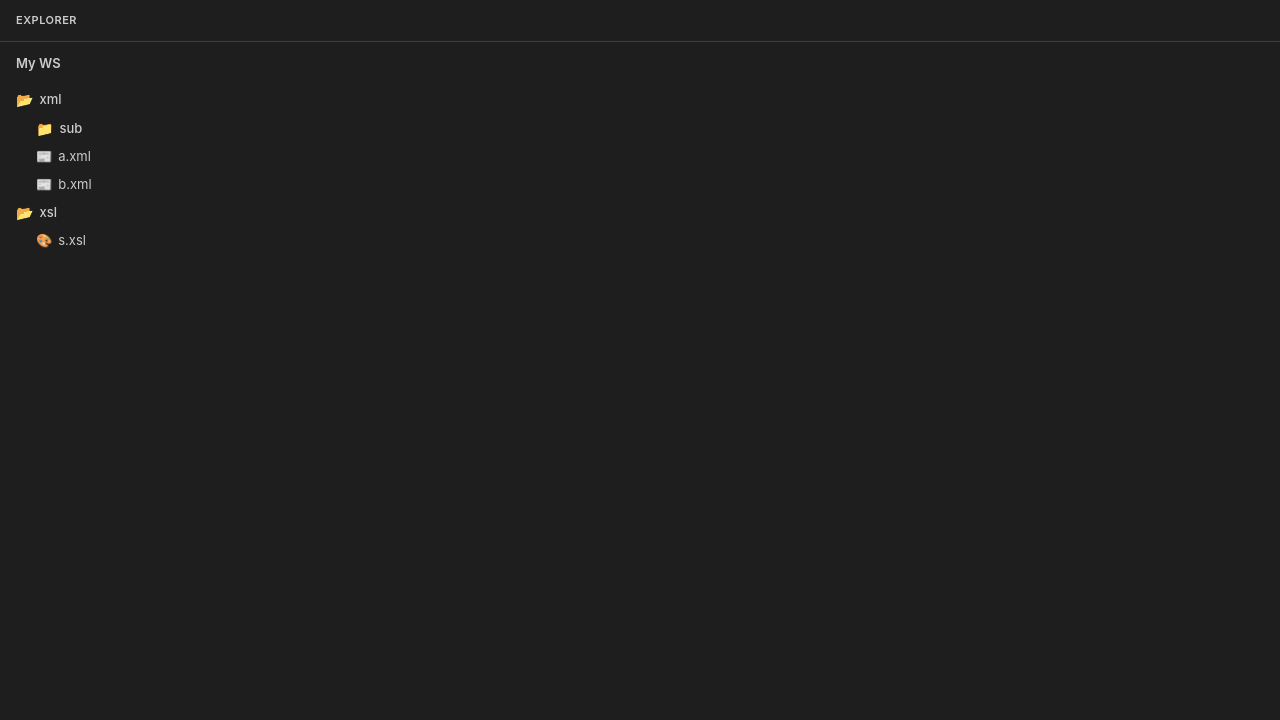
Test: FileExplorer › delete › does nothing when cancelled
Right-click the text "a.xml" at (63, 156), box [36,148,91,164]
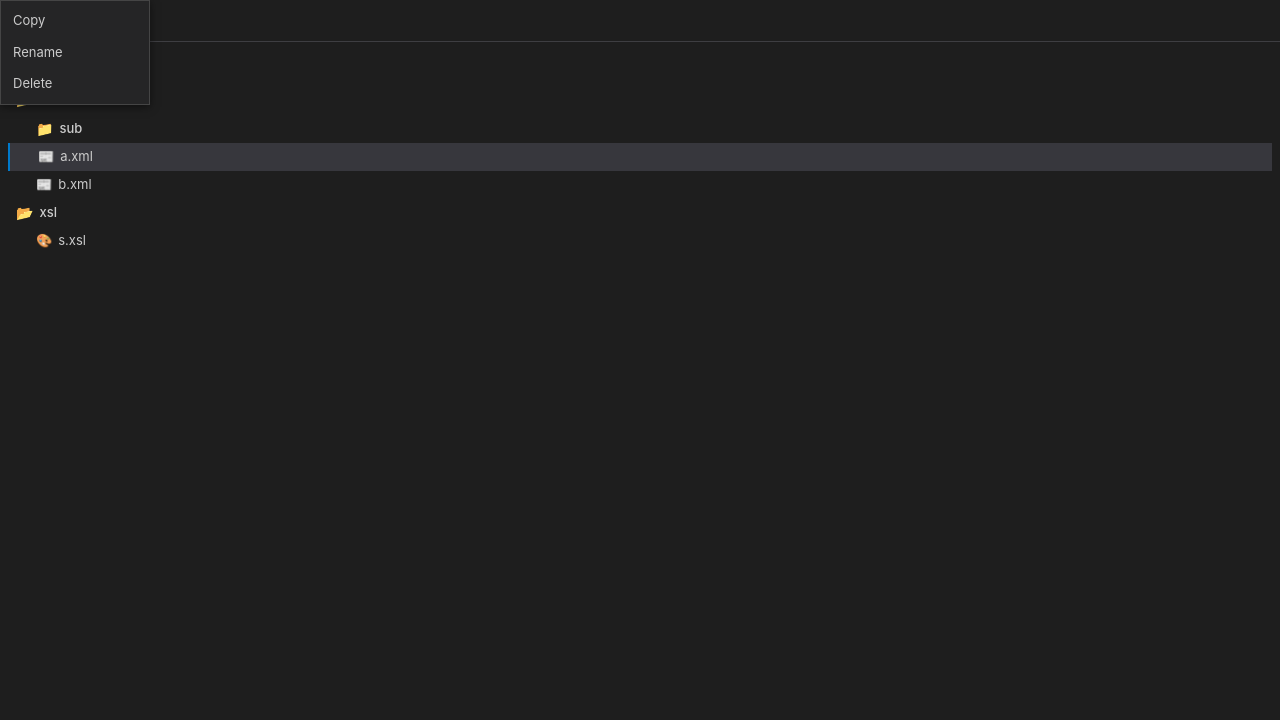
Click the text "Delete". click: (33, 83)
box: [13,75,52,91]
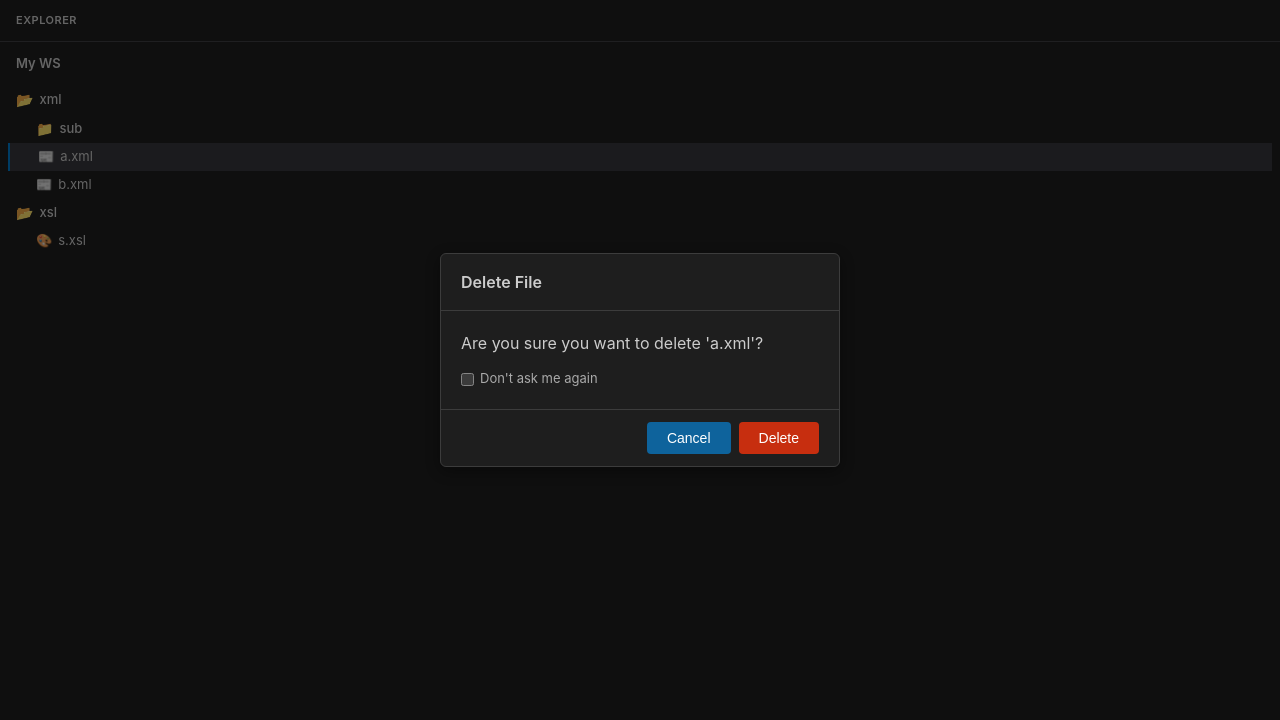
Click the button "Cancel". click: (689, 438)
box: [647,422,730,454]
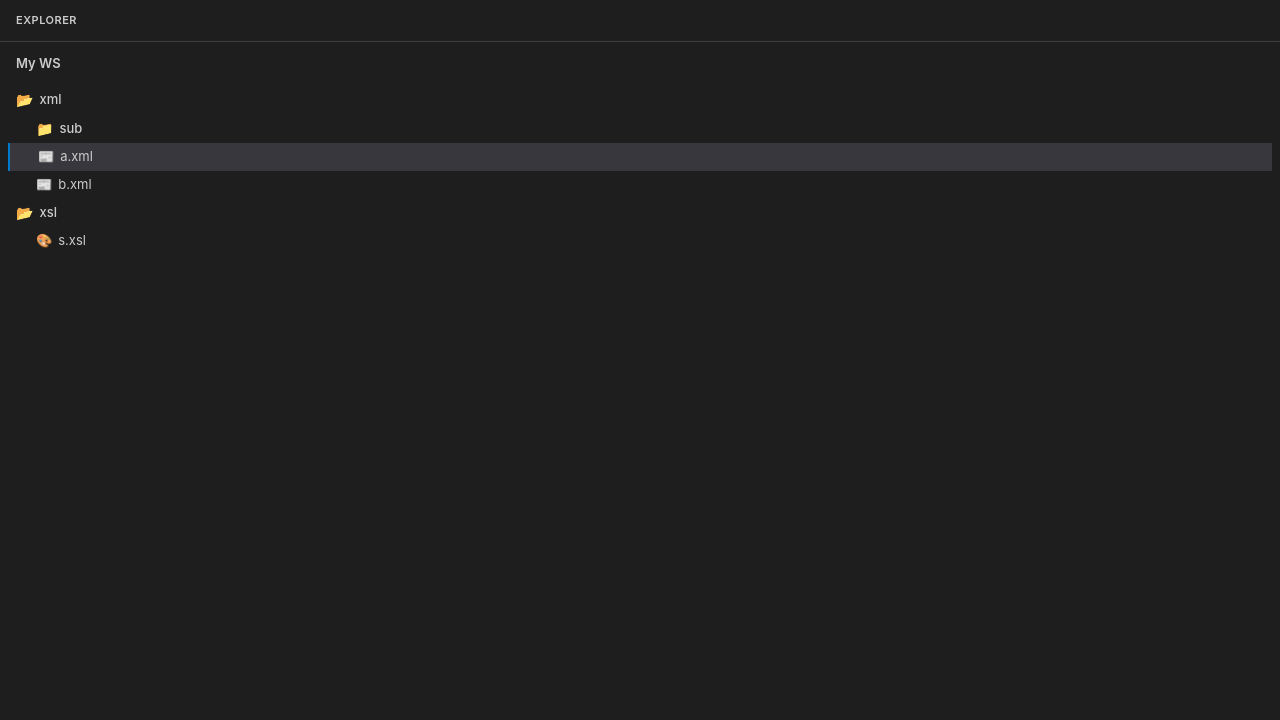
Expected: the heading "Delete File" is gone
